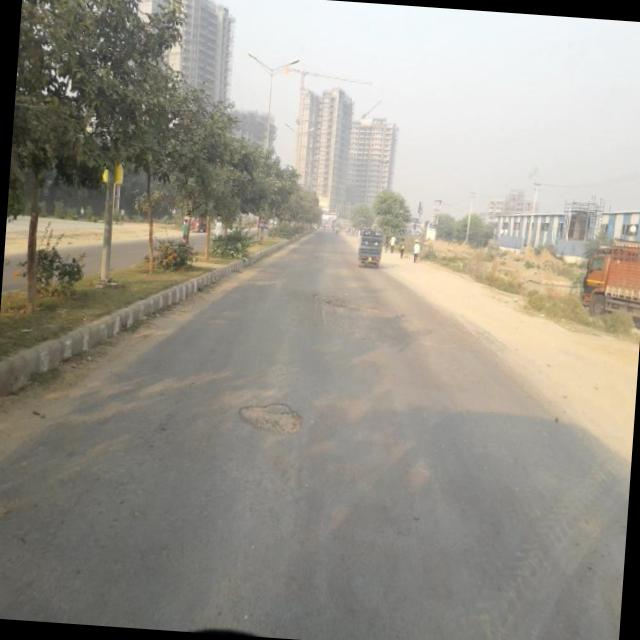pothole: (234, 398, 308, 437), (314, 285, 388, 324)
